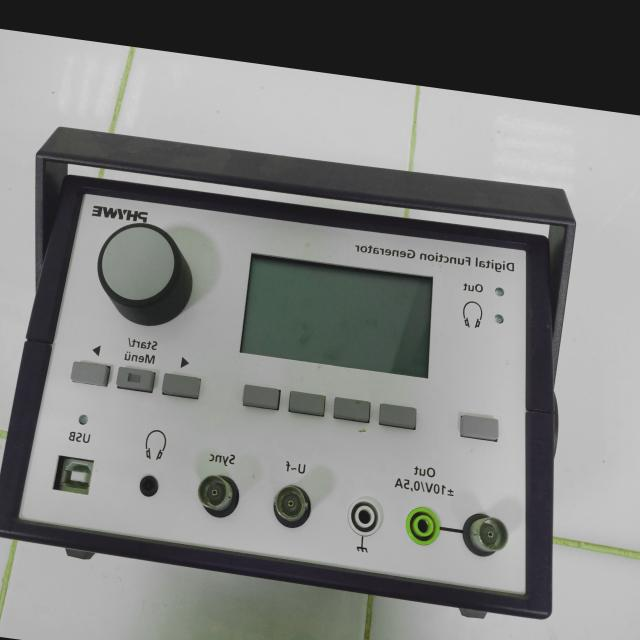Digital Function Generator: (0, 108, 600, 640)
